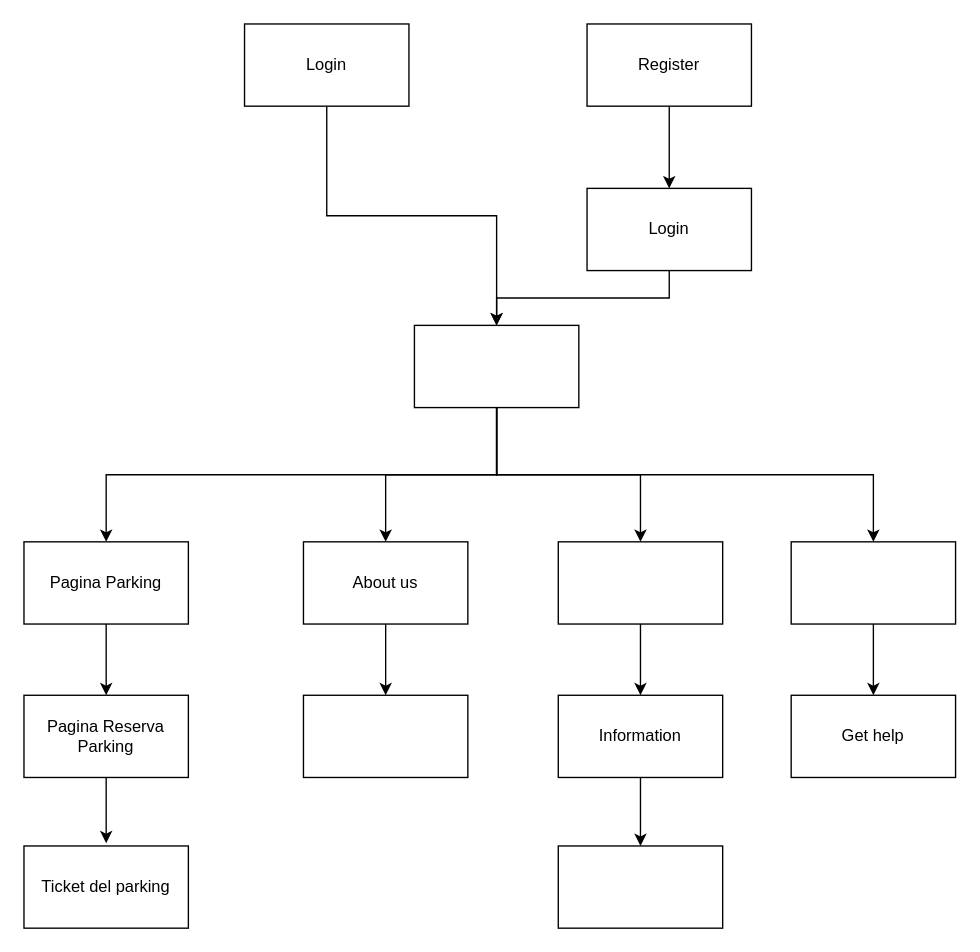
Image size: 980x952. Some labels were removed from this diagram. Here are the shapes that lost their labels. From the top down, the centre of each, then its label:
At point (496, 366): "Home".
At point (640, 582): "Profile".
At point (873, 582): "Support".
At point (385, 735): "Contact us".
At point (640, 886): "Edit Information".
